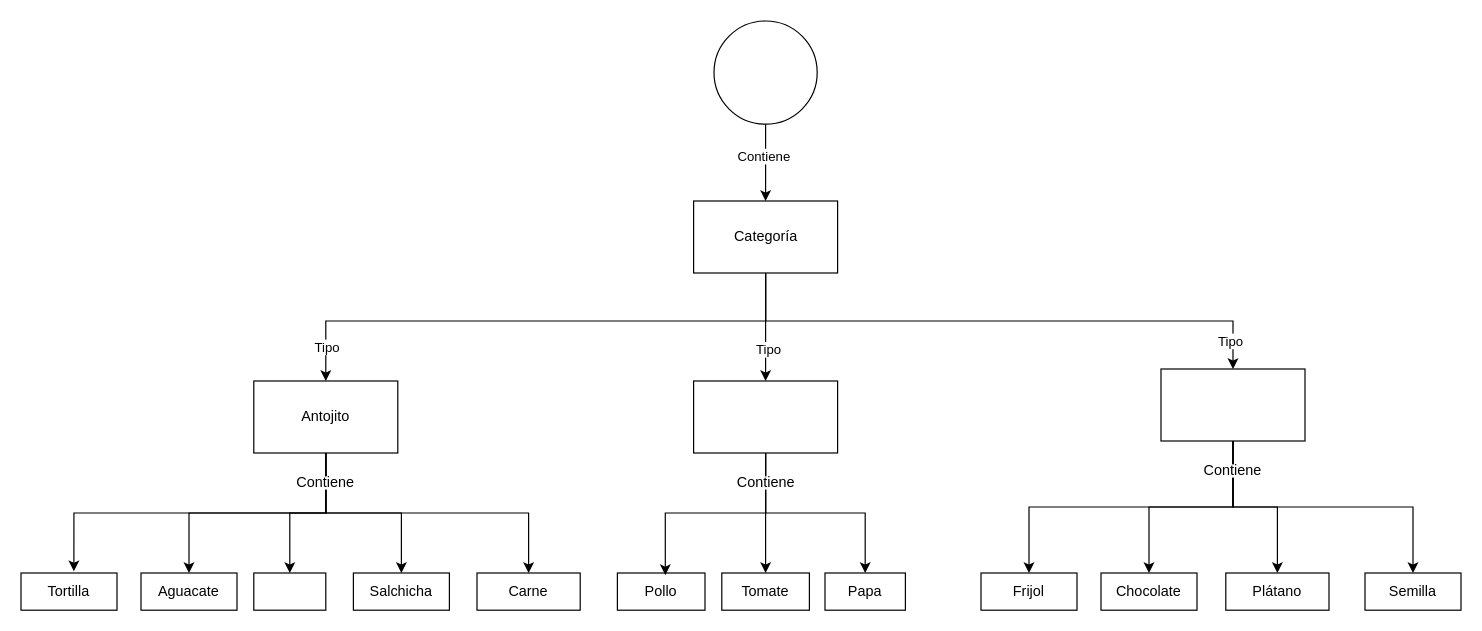
Image size: 1482x631. Some labels were removed from this diagram. Here are the shapes that lost their labels. From the top down, the centre of each, then its label:
At (x=765, y=72): "Platillos".
At (x=765, y=416): "Plato fuerte".
At (x=1232, y=404): "Postre".
At (x=289, y=591): "Pan".
